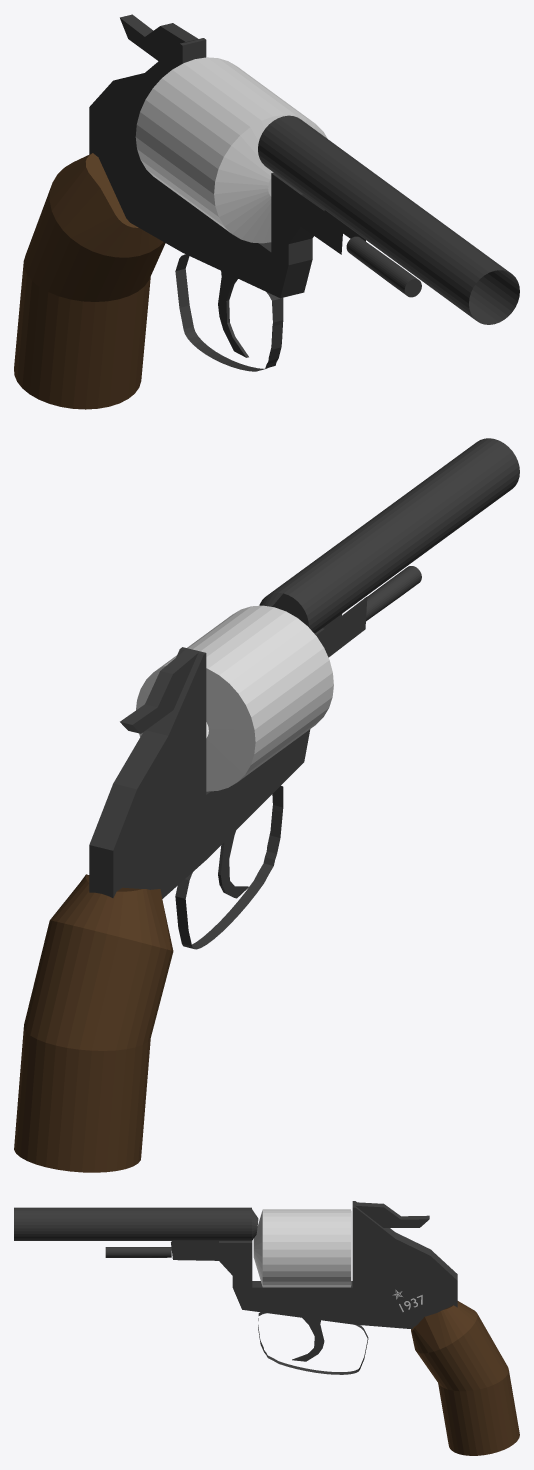
Rendered from weapon_rev.glb.
3 renders of one model, top to bottom at view 1: azimuth 30°, elevation 25°; view 2: azimuth 150°, elevation 25°; view 3: azimuth 270°, elevation 25°, orthographic. The views are drawn at different scales.
Visible parts, largest first — view 1: Ручка, Основа, Магазин, Ствол, Крючок; view 2: Ручка, Основа, Магазин, Ствол; view 3: Основа, Ручка, Ствол, Магазин, Крючок.
Boxes of the visible parts, <box> form: Ручка: <box>14,153,165,409</box>; Основа: <box>89,14,421,371</box>; Магазин: <box>135,57,327,243</box>; Ствол: <box>258,115,519,324</box>; Крючок: <box>218,271,248,357</box>; Ручка: <box>14,874,173,1172</box>; Основа: <box>89,566,421,949</box>; Магазин: <box>136,605,333,791</box>; Ствол: <box>259,438,519,633</box>; Основа: <box>105,1201,457,1374</box>; Ручка: <box>411,1301,519,1455</box>; Ствол: <box>14,1207,258,1240</box>; Магазин: <box>253,1209,351,1287</box>; Крючок: <box>292,1318,324,1361</box>.
Bounding box in the file's own units: 0.6959 × 2.37 × 4.51.
